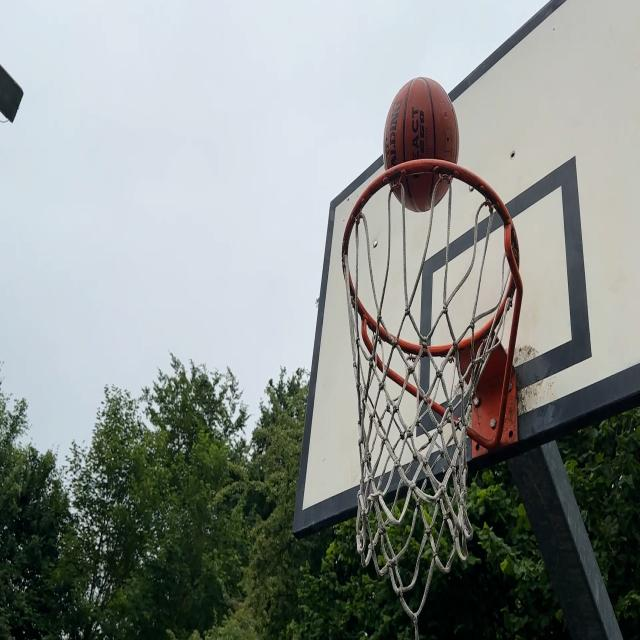rebound_hit: (384, 78, 462, 216)
